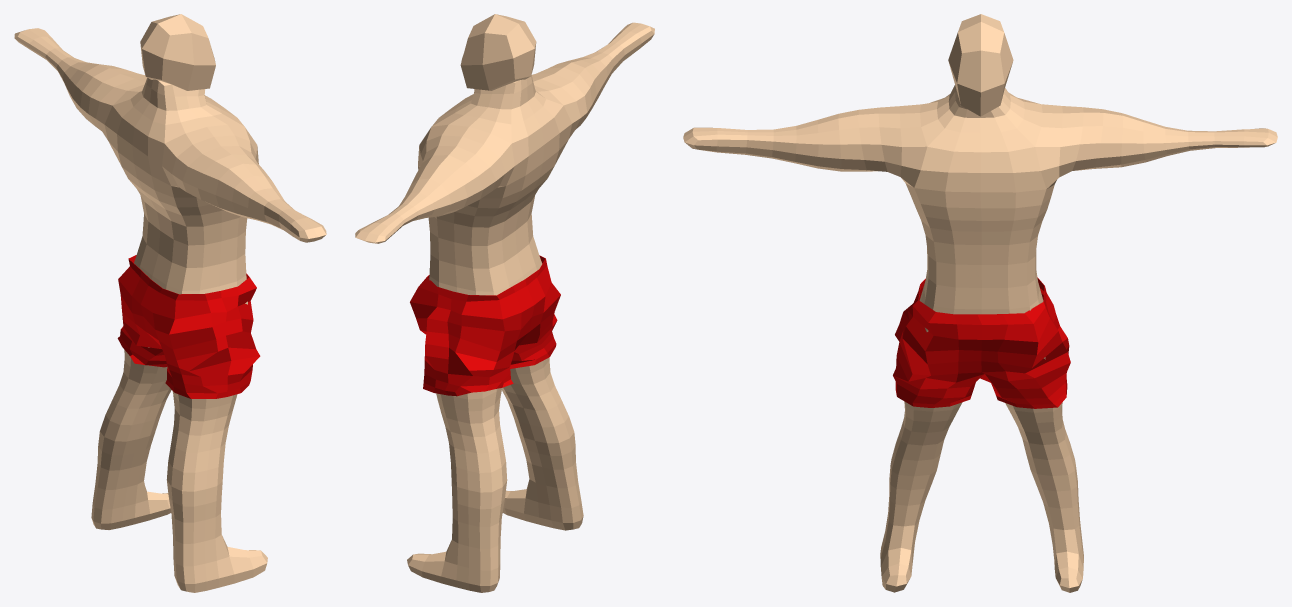
The model's file is богатырь.fbx.
3 renders of one model, left to right at view 1: azimuth 30°, elevation 25°; view 2: azimuth 150°, elevation 25°; view 3: azimuth 270°, elevation 25°, orthographic. The views are drawn at different scales.
Parts seen in each view (by area): view 1: Куб.001, Меш, Куб; view 2: Куб.001, Меш, Куб; view 3: Куб.001, Меш, Куб.
Part boxes in pixels (x1=…): Куб.001: x1=14, y1=28, x2=326, y2=592; Меш: x1=117, y1=255, x2=260, y2=398; Куб: x1=140, y1=14, x2=215, y2=90; Куб.001: x1=355, y1=22, x2=654, y2=592; Меш: x1=410, y1=255, x2=560, y2=396; Куб: x1=460, y1=14, x2=536, y2=90; Куб.001: x1=683, y1=85, x2=1277, y2=592; Меш: x1=893, y1=277, x2=1070, y2=408; Куб: x1=948, y1=14, x2=1013, y2=116.
Bounding box in the file's own units: 372 × 1794 × 1736.
